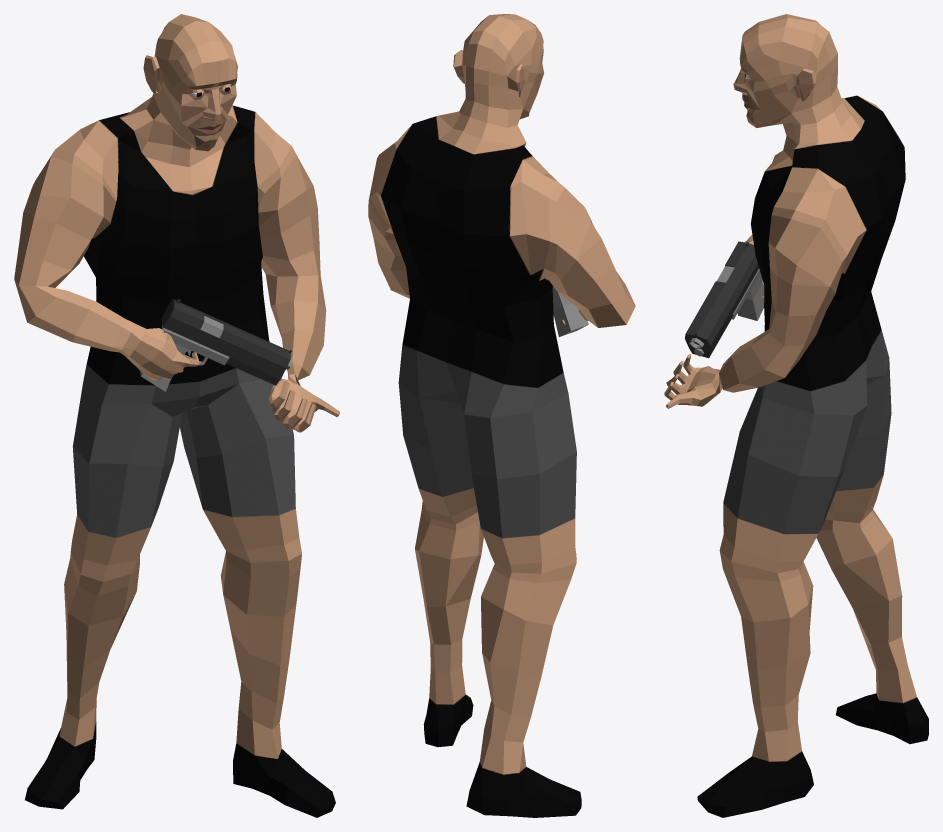
Rendered from PlayerIdle(92).obj.
The picture shows the model from 3 angles, left to right: view 1: azimuth 30°, elevation 25°; view 2: azimuth 150°, elevation 25°; view 3: azimuth 270°, elevation 25°; orthographic projection. The views are drawn at different scales.
Parts seen in each view (by area): view 1: Plane002, Box003; view 2: Plane002, Box003; view 3: Plane002, Box003.
Part boxes in pixels (x1,y1,x2,y2): Plane002: [14, 14, 339, 817]; Box003: [140, 299, 292, 391]; Plane002: [368, 14, 635, 817]; Box003: [552, 286, 588, 336]; Plane002: [664, 14, 928, 817]; Box003: [685, 241, 764, 358].
Size of the model in its own units: 674 by 1802 by 576.
